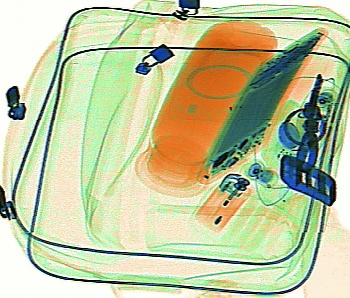lighter: (190, 173, 251, 234)
